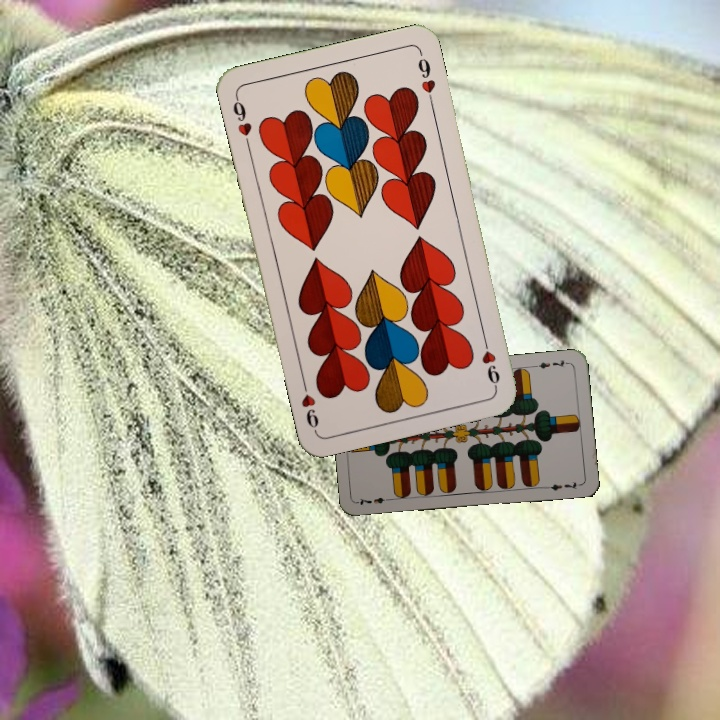E7: (531, 356, 571, 371), (354, 493, 395, 507)
H9: (228, 91, 255, 150), (477, 331, 503, 390)
